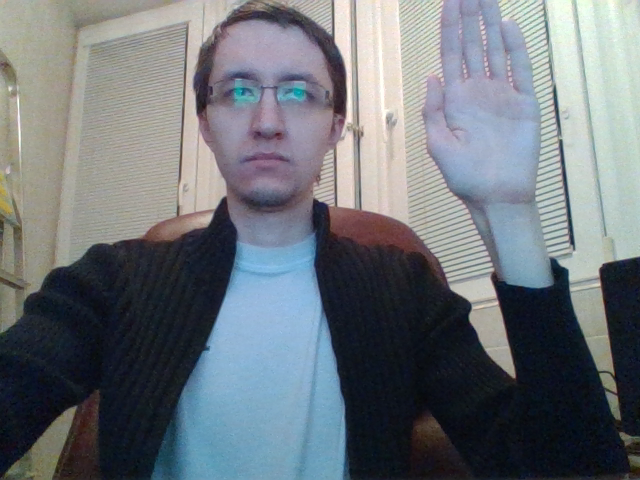hand: (443, 88, 537, 199)
